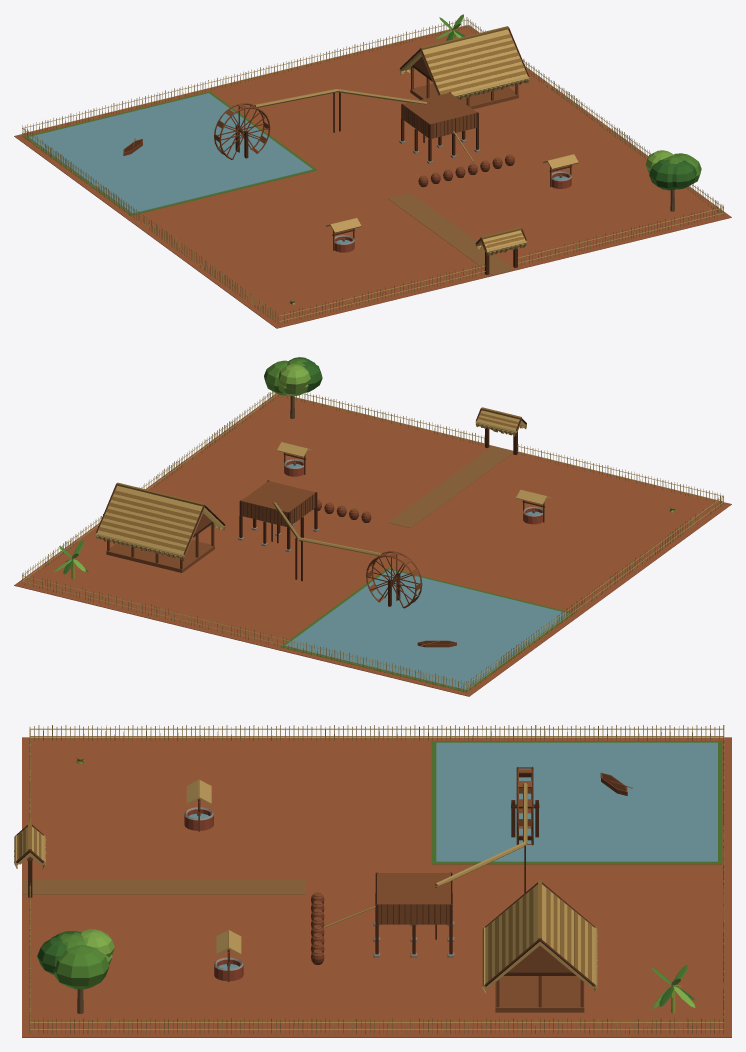
Rendered from water_works.glb.
3 renders of one model, top to bottom at view 1: azimuth 30°, elevation 25°; view 2: azimuth 150°, elevation 25°; view 3: azimuth 270°, elevation 25°, orthographic. The views are drawn at different scales.
Parts seen in each view (by area): view 1: body; view 2: body; view 3: body.
Part boxes in pixels (<box>): body: <box>14,14,731,328</box>; body: <box>14,357,731,696</box>; body: <box>14,725,731,1037</box>.
Bounding box in the file's own units: 47.9 × 6.21 × 48.44.
